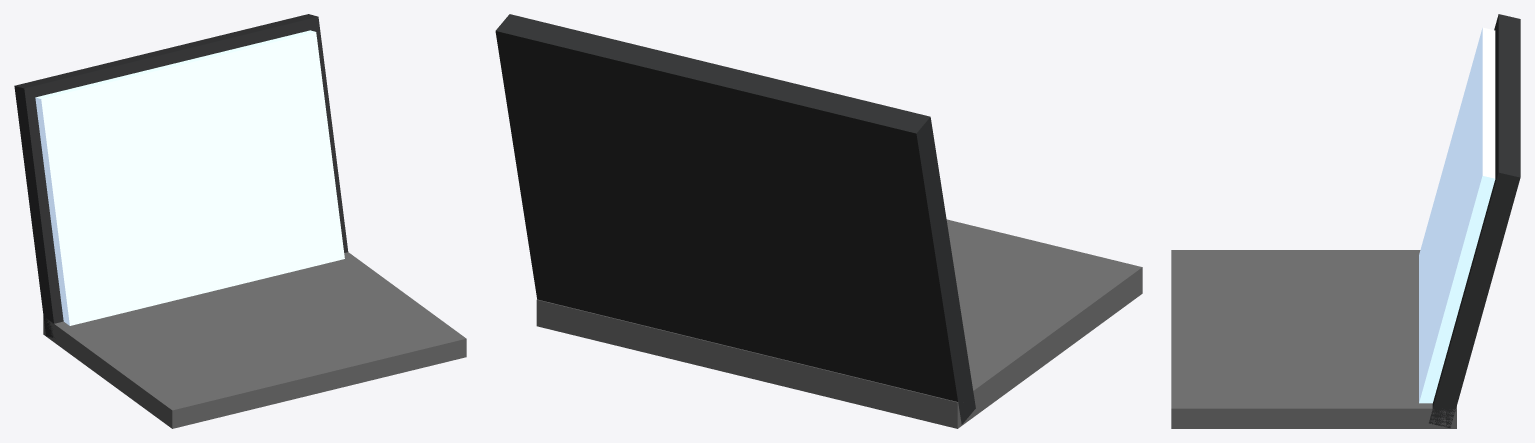
File: laptopdingv2.glb
3 views of the same model, side by side, from view 1: azimuth 30°, elevation 25°; view 2: azimuth 150°, elevation 25°; view 3: azimuth 270°, elevation 25° (orthographic). The views are drawn at different scales.
Parts seen in each view (by area): view 1: Cube002, Cube, Cube001; view 2: Cube001, Cube; view 3: Cube, Cube002, Cube001.
Boxes of the visible parts, <box> form: Cube002: <box>35,30,344,325</box>; Cube: <box>43,252,466,428</box>; Cube001: <box>14,14,348,337</box>; Cube001: <box>495,14,975,424</box>; Cube: <box>536,219,1142,428</box>; Cube: <box>1171,250,1456,428</box>; Cube002: <box>1419,27,1495,403</box>; Cube001: <box>1429,14,1520,427</box>.
Size of the model in its own units: 2.23 by 1.68 by 2.08.
